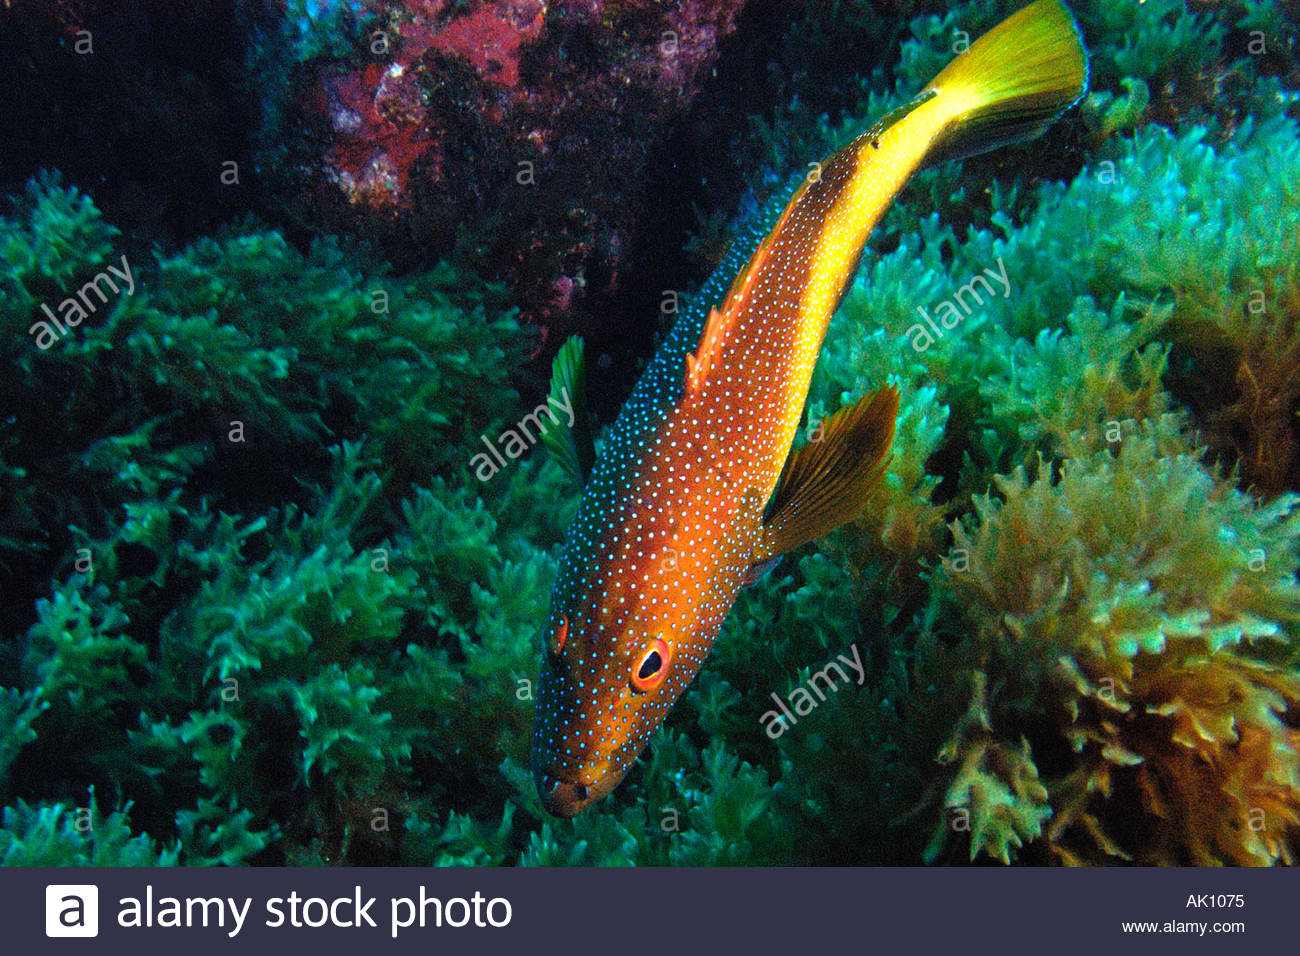Cephalopholis_fulvaw: (513, 2, 1094, 829)
